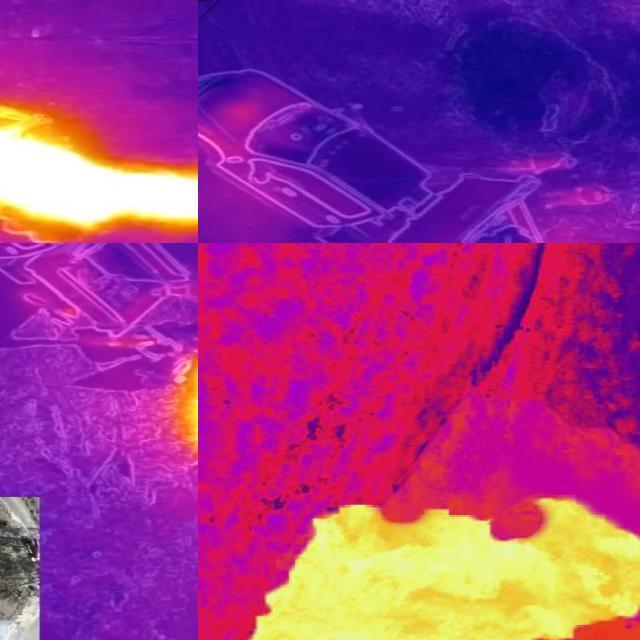fire: (236, 495, 640, 640), (1, 94, 199, 231), (173, 351, 203, 459)
